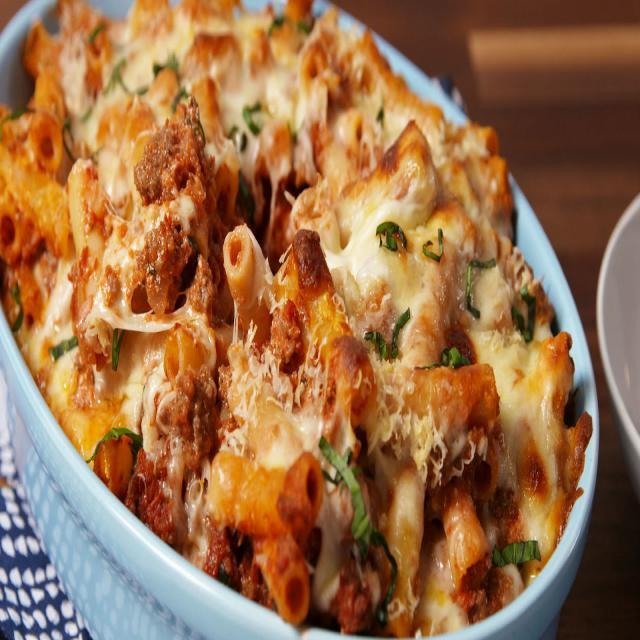Pasta al ragu: (26, 13, 544, 578)
